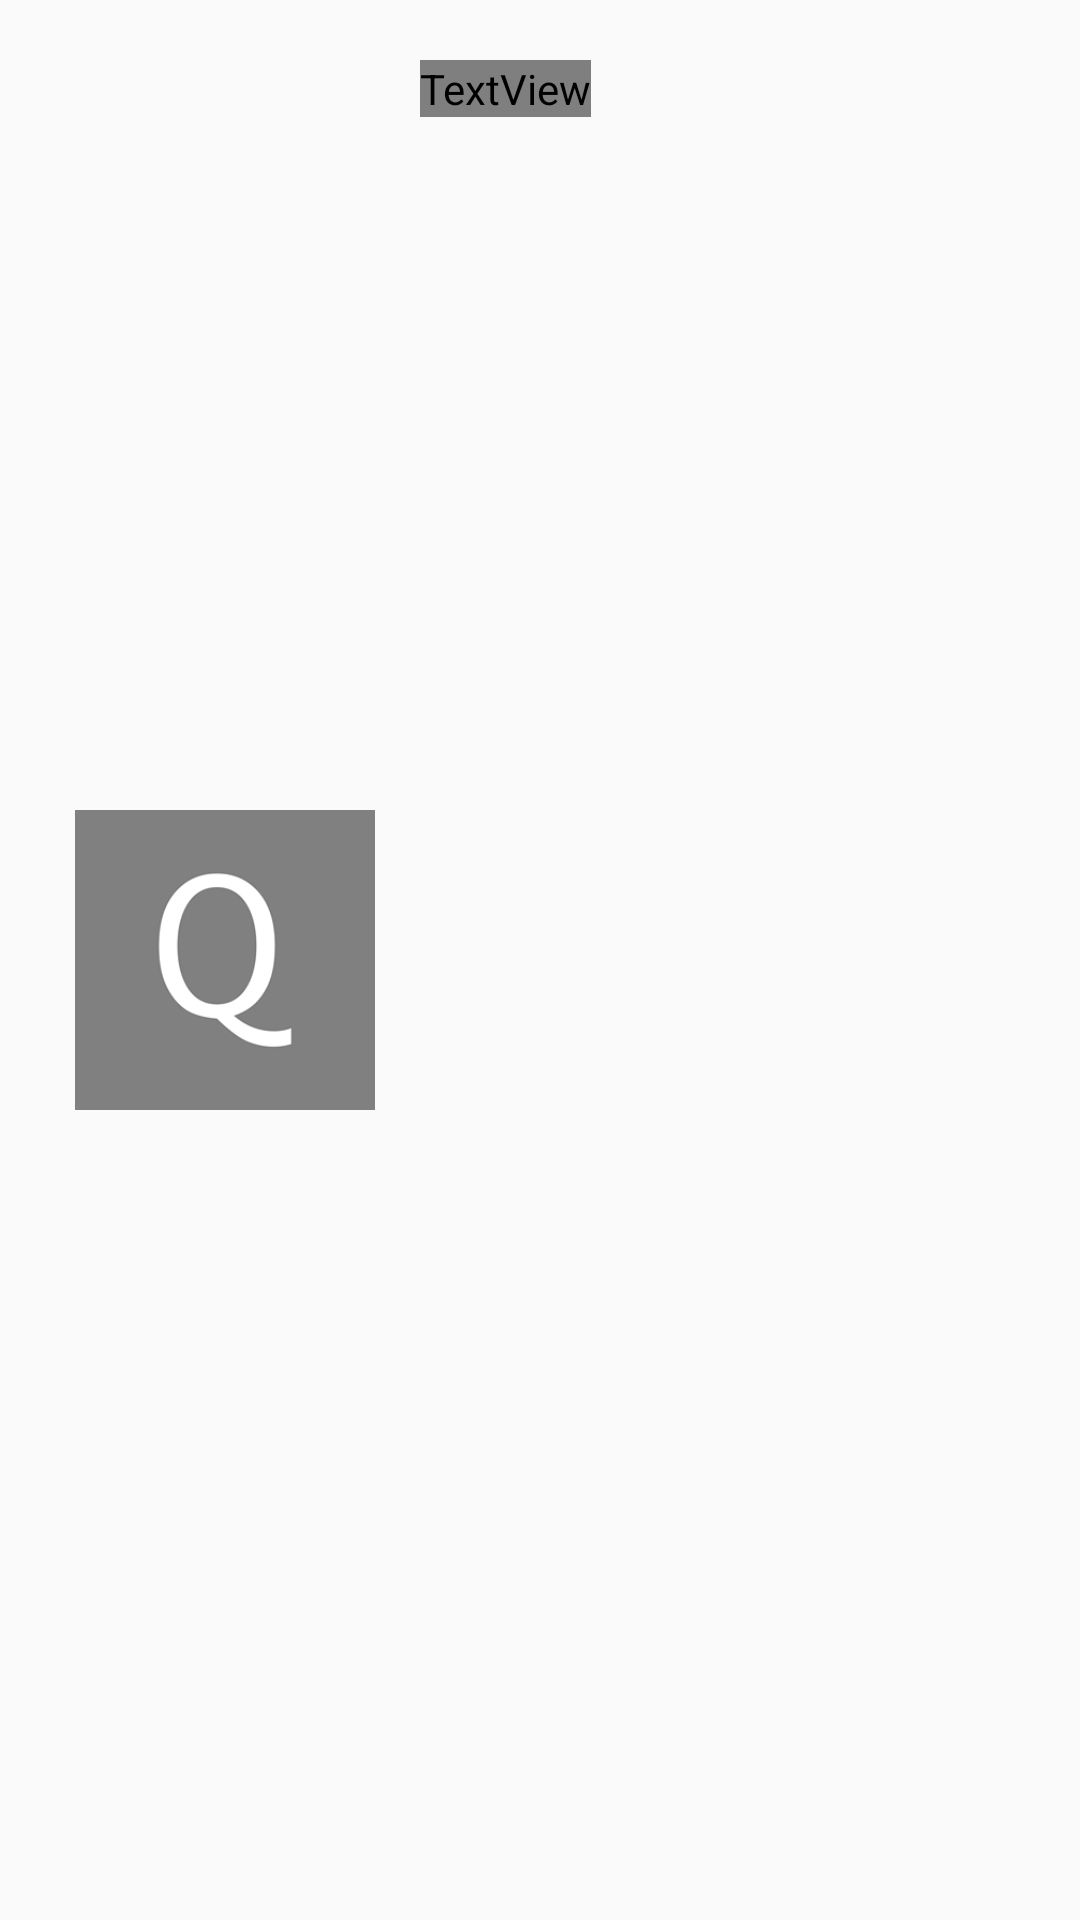

Named icons in this screenshot (1080 × 1920) and their bounding boxes, (left=x1, top=y1, right=x2, bottom=y2):
nopicture: (left=75, top=810, right=375, bottom=1110)
